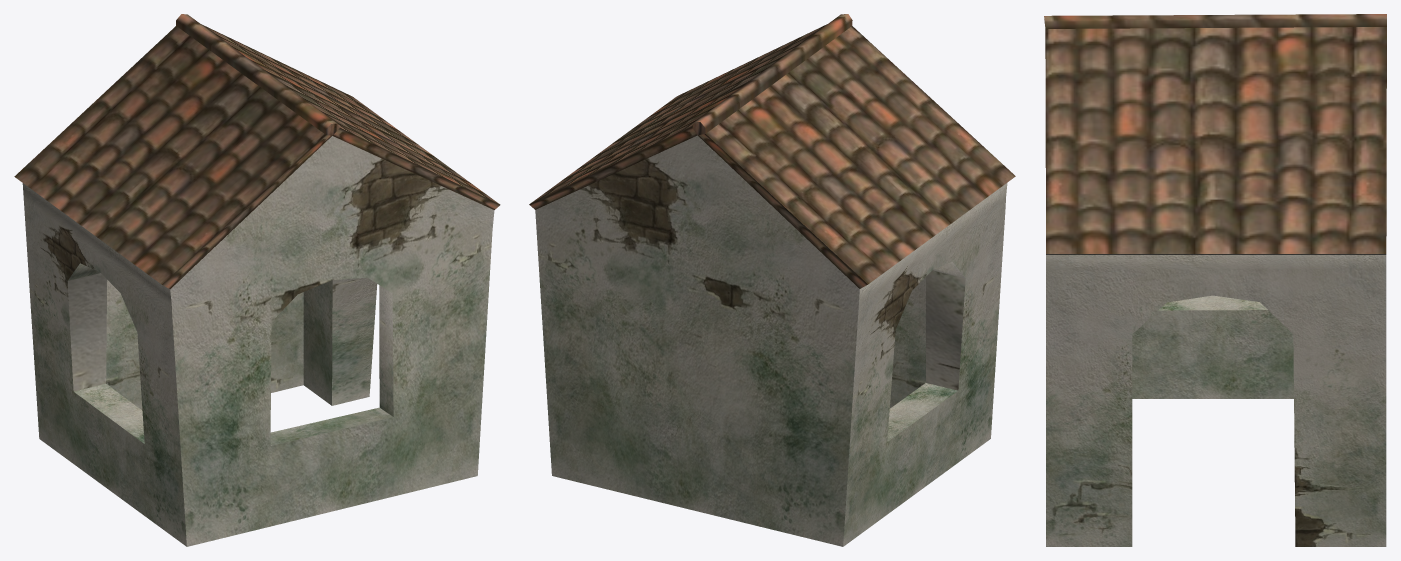
The model's file is spanish_npc_attach_porch.fbx.
3 views of the same model, side by side, from view 1: azimuth 30°, elevation 25°; view 2: azimuth 150°, elevation 25°; view 3: azimuth 270°, elevation 25° (orthographic). The views are drawn at different scales.
Visible parts, largest first — view 1: walls, roof; view 2: walls, roof; view 3: roof, walls.
Boxes of the visible parts, x1,y1,x2,y2 form: walls: (22, 136, 494, 546); roof: (14, 14, 500, 288); walls: (535, 135, 1007, 546); roof: (529, 14, 1015, 288); roof: (1044, 14, 1386, 254); walls: (1046, 254, 1386, 546).
Bounding box in the file's own units: 1908 × 2098 × 1451.
1 material, 1 textured.
